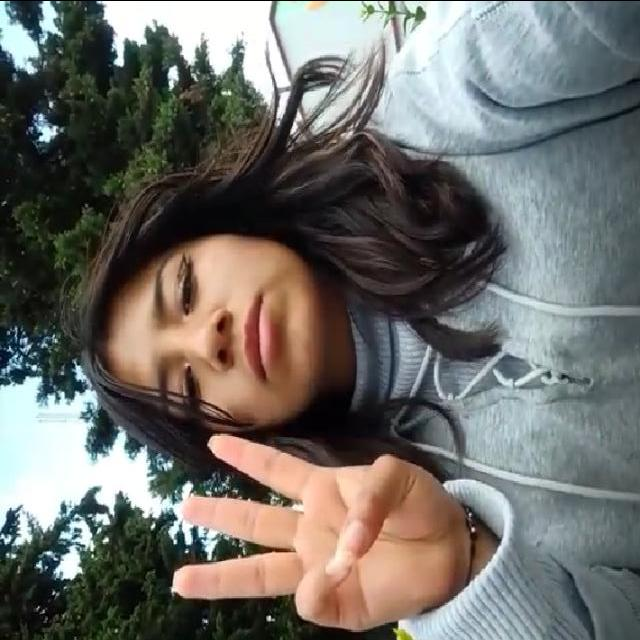W: (158, 419, 468, 629)
